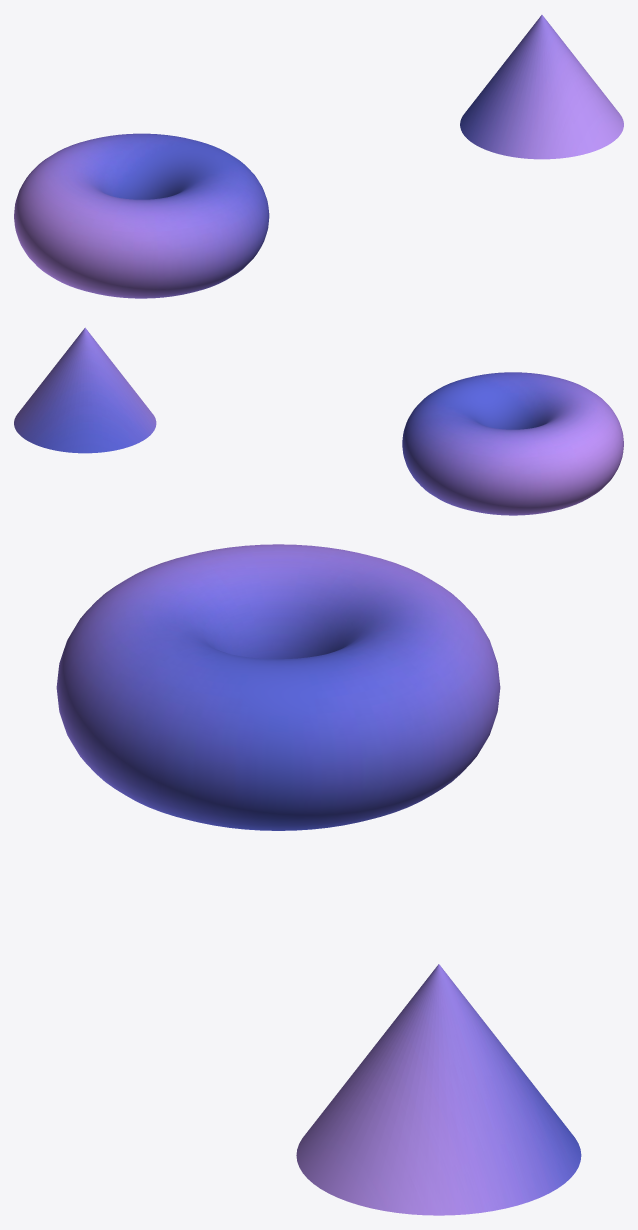
The model's file is Project Name.obj.
3 renders of one model, top to bottom at view 1: azimuth 30°, elevation 25°; view 2: azimuth 150°, elevation 25°; view 3: azimuth 270°, elevation 25°, orthographic. The views are drawn at different scales.
Visible parts, largest first — view 1: 001_Torus, 000_Cone; view 2: 001_Torus, 000_Cone; view 3: 001_Torus, 000_Cone.
Part boxes in pixels (x1,y1,x2,y2): 001_Torus: [14, 133, 269, 298]; 000_Cone: [460, 15, 623, 159]; 001_Torus: [402, 372, 623, 515]; 000_Cone: [14, 327, 156, 453]; 001_Torus: [56, 544, 500, 830]; 000_Cone: [296, 964, 581, 1215].
Bounding box in the file's own units: 538 × 90.2 × 224.
2 materials, 2 textured.
